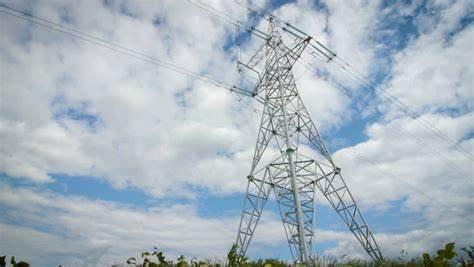power_tower: (226, 12, 385, 267)
